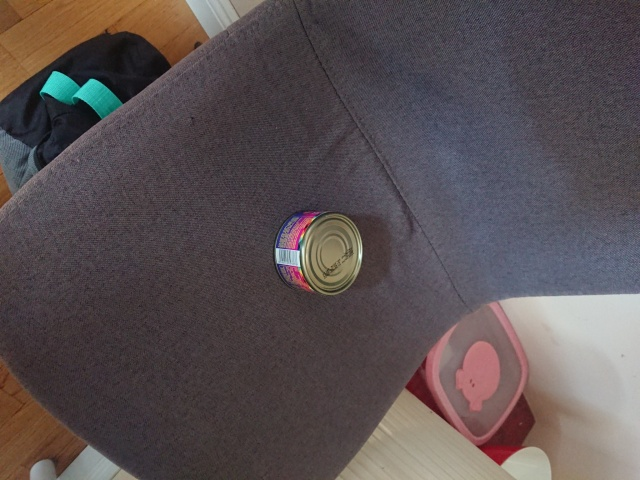Giana Tuna Salad Mexico 185g: (271, 207, 366, 300)
